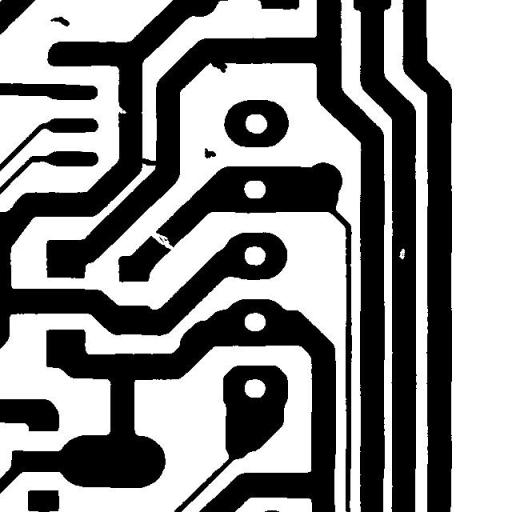copper: (42, 8, 77, 34), (197, 140, 223, 166)
mousebite: (106, 98, 134, 121)
open: (141, 223, 181, 257)
pin-hole: (391, 241, 412, 266)
short: (130, 150, 166, 173)
spur: (204, 53, 234, 80)
